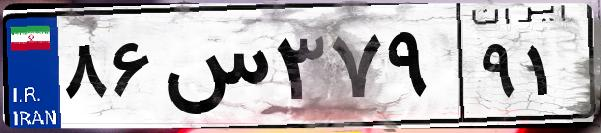1: (525, 38, 570, 115)
3: (270, 28, 330, 110)
6: (110, 28, 158, 98)
7: (330, 28, 385, 110)
8: (57, 26, 110, 100)
9: (385, 28, 445, 110), (475, 38, 525, 113)
س: (158, 20, 270, 120)
